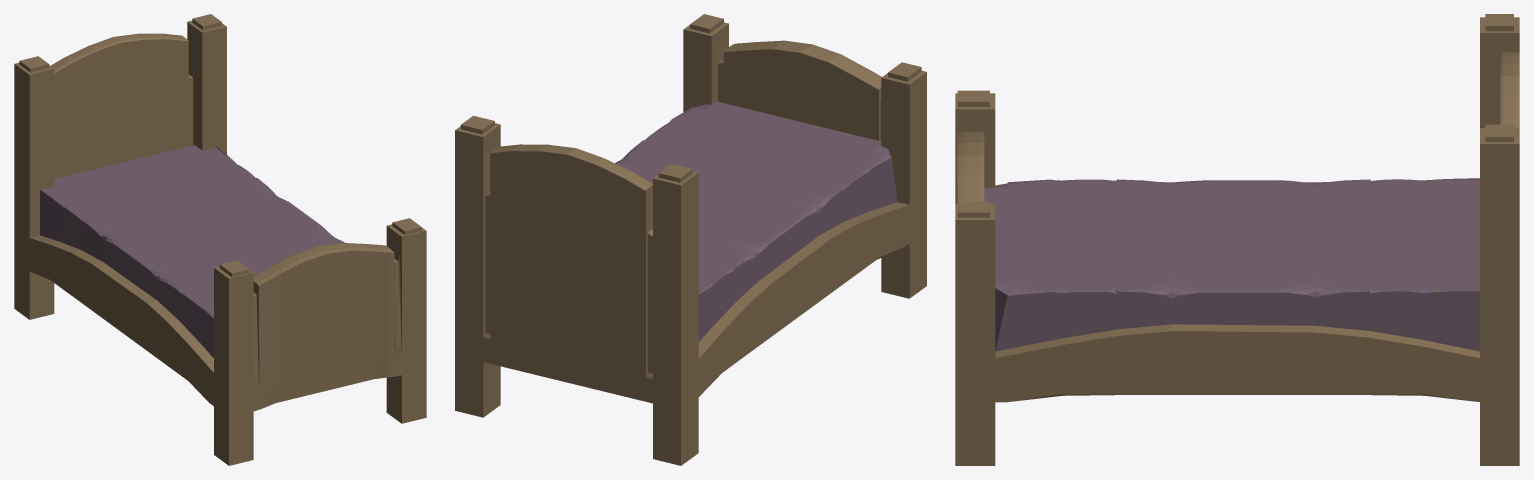
The model's file is cama .fbx.
3 views of the same model, side by side, from view 1: azimuth 30°, elevation 25°; view 2: azimuth 150°, elevation 25°; view 3: azimuth 270°, elevation 25° (orthographic). The views are drawn at different scales.
Visible parts, largest first — view 1: cama; view 2: cama; view 3: cama.
Part boxes in pixels (x1,y1,x2,y2): cama: (14, 14, 426, 465); cama: (455, 14, 926, 465); cama: (955, 14, 1519, 465).
Bounding box in the file's own units: 4410 × 5313 × 8305.
